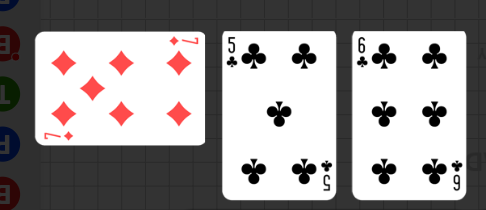6C: (449, 157, 463, 192)
7D: (167, 34, 200, 47), (43, 130, 75, 142)
